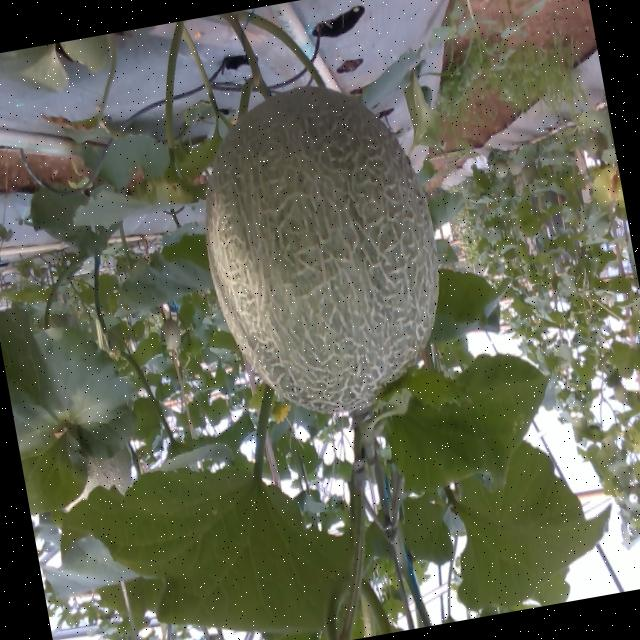melon: (206, 86, 437, 410)
